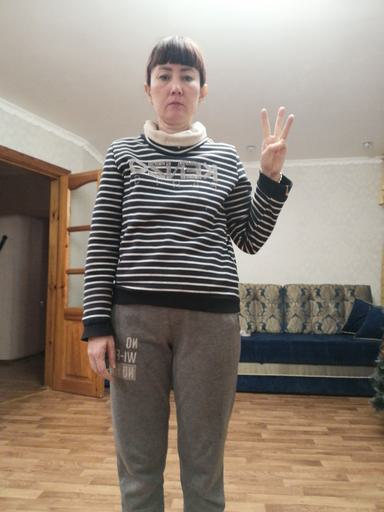three: (258, 105, 297, 178)
